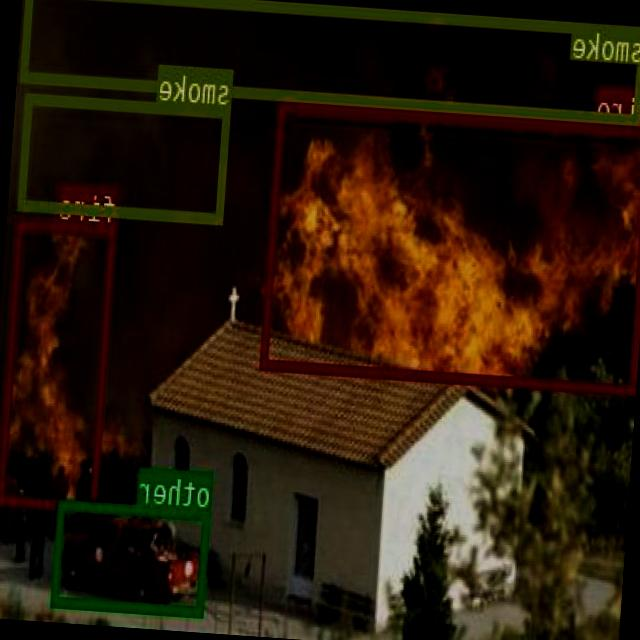fire: (260, 98, 640, 394), (0, 217, 117, 509)
smoke: (21, 0, 640, 124), (19, 92, 232, 222)
